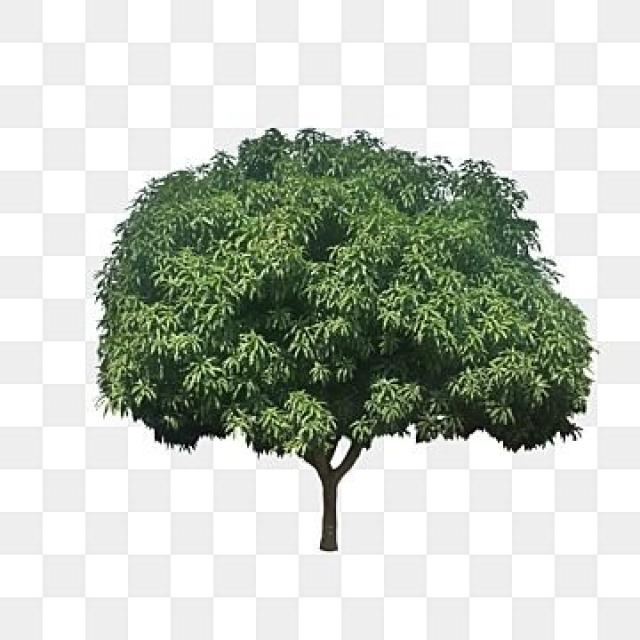Mango-Tree: (80, 133, 590, 536)
